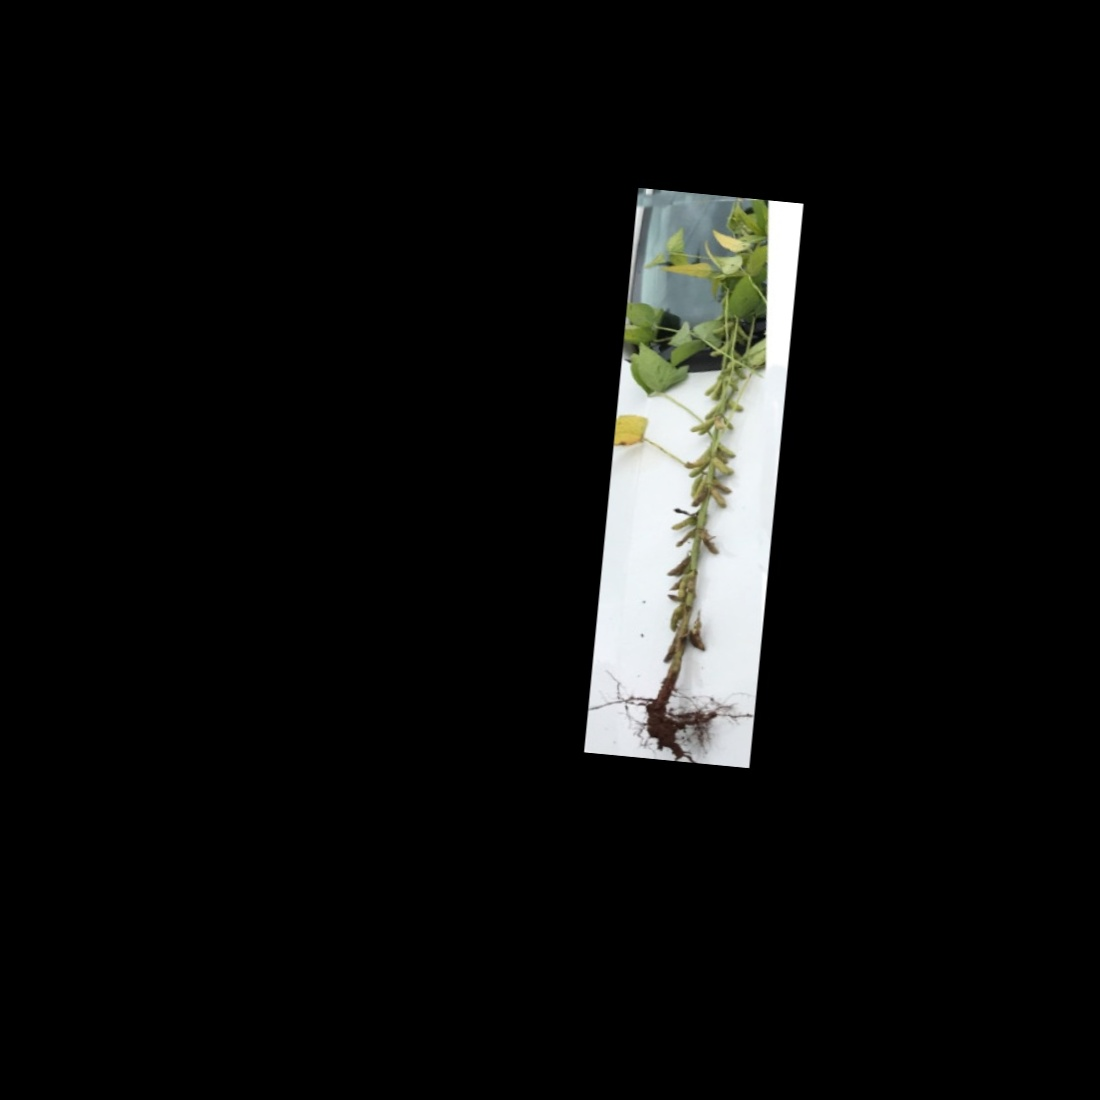pod: (707, 486, 734, 512), (687, 414, 717, 436), (687, 456, 711, 482), (712, 439, 738, 460), (709, 456, 734, 476), (706, 338, 730, 359), (723, 396, 747, 414)
soy: (593, 193, 791, 753)
